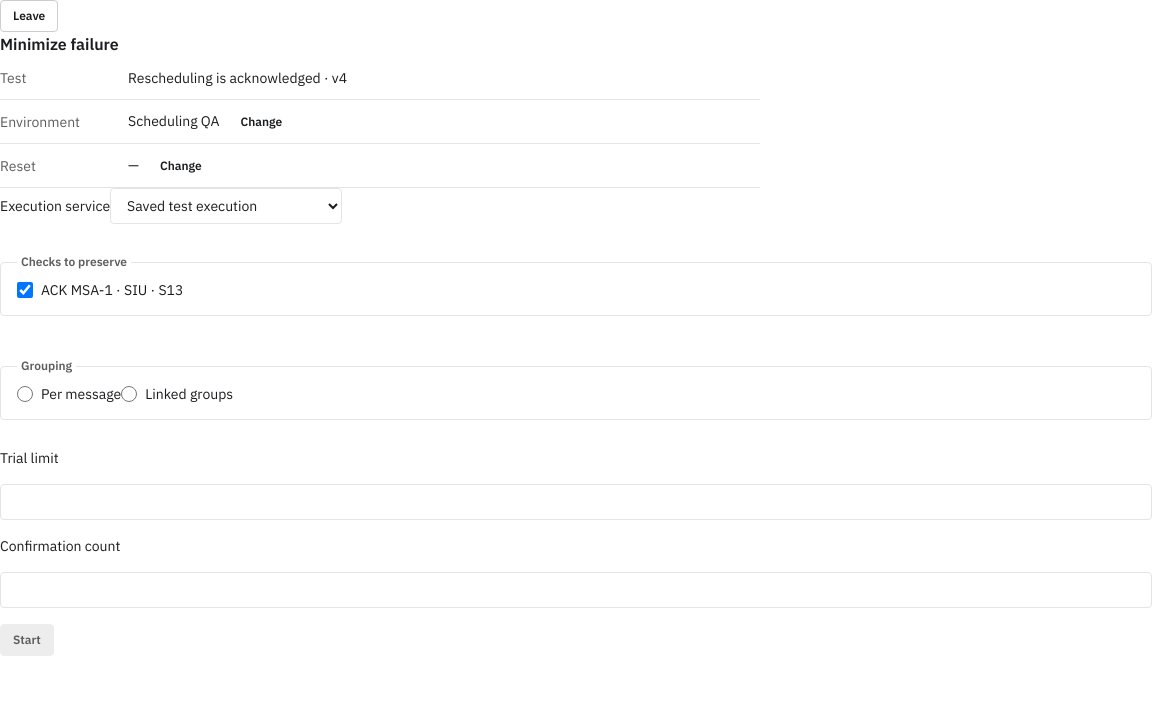
Test case: a connected minimization reviews the saved lifecycle, typed checks and isolation before Start
Select "Approved connected lifecycle" in the dropdown labelled "Execution service" at (226, 206), box x1=110 y1=188 x2=342 y2=224
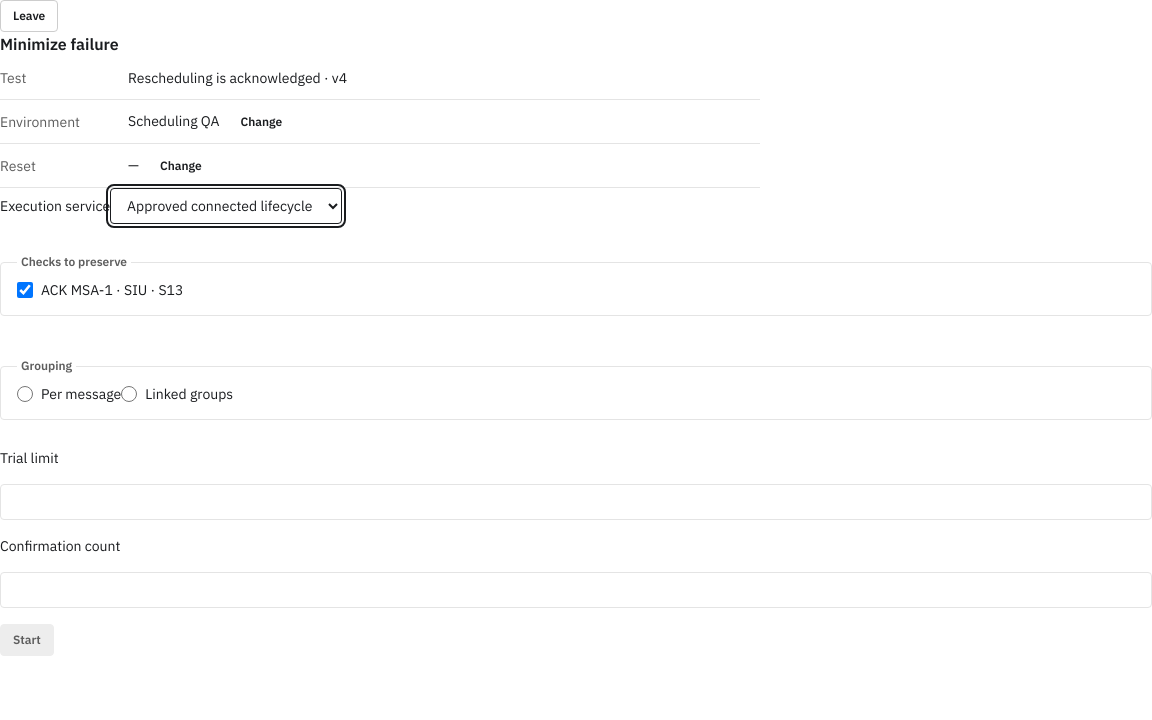
Expected: the checkbox labelled "ACK MSA-1 · SIU · S13" is shown, x1=17 y1=282 x2=33 y2=298
Expected: the button "Start" is disabled, x1=0 y1=624 x2=54 y2=656
Click the radio button labelled "Per message" at (25, 394), box x1=17 y1=386 x2=33 y2=402
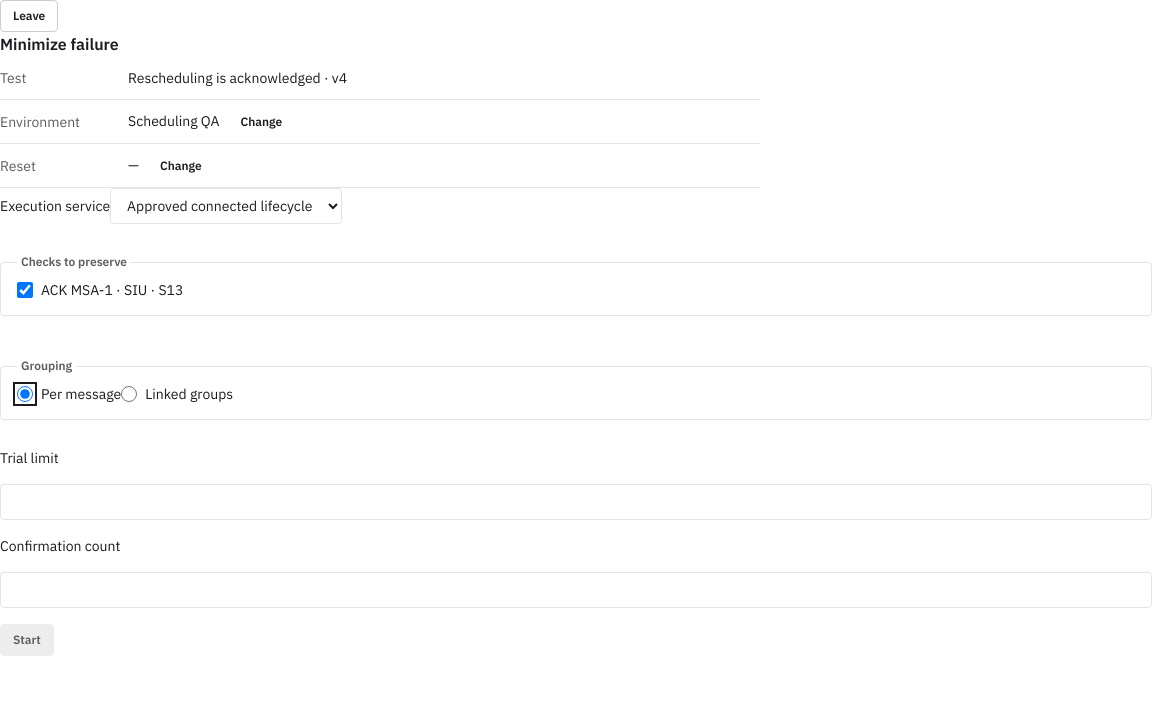
Type "16" into the number field labelled "Trial limit" at (576, 502), box x1=0 y1=484 x2=1151 y2=520
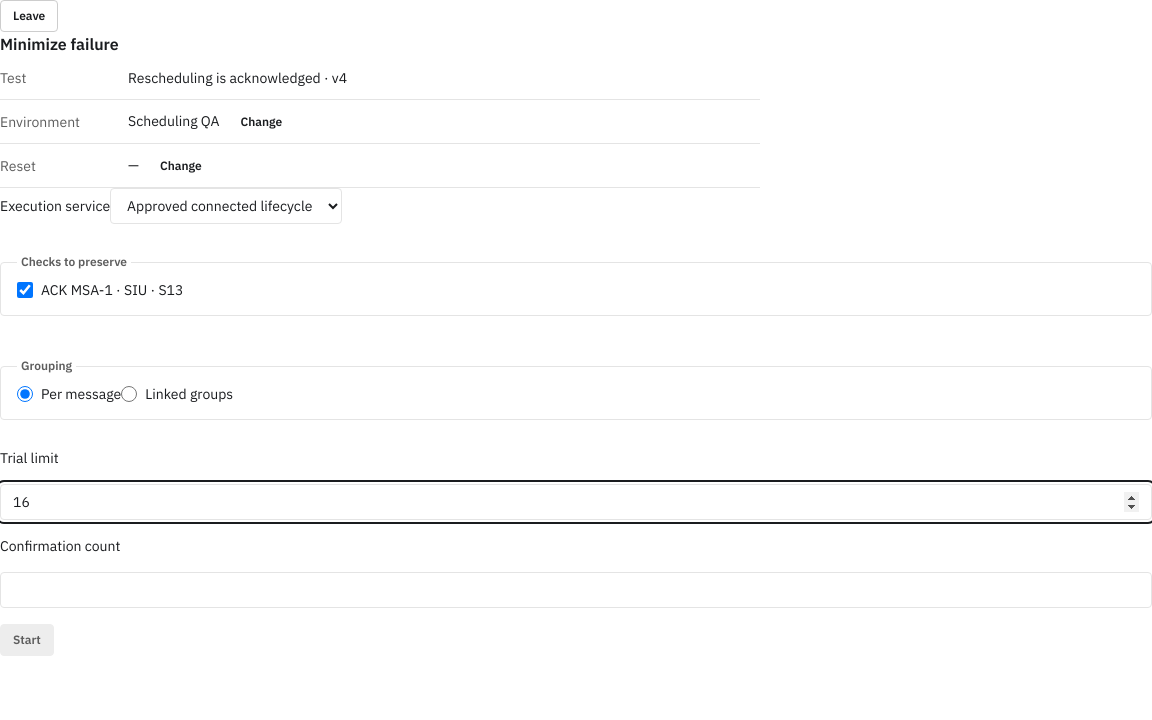
Type "1" into the number field labelled "Confirmation count" at (576, 590), box x1=0 y1=572 x2=1151 y2=608
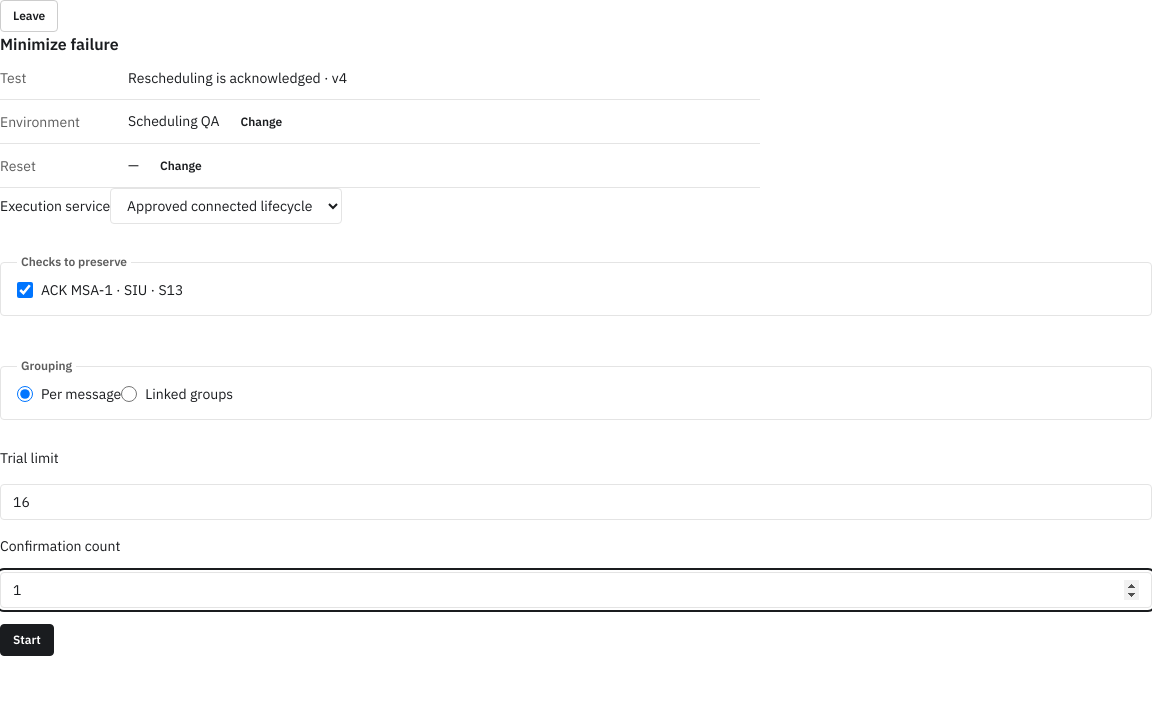
Click the button "Start" at (27, 640), box x1=0 y1=624 x2=54 y2=656
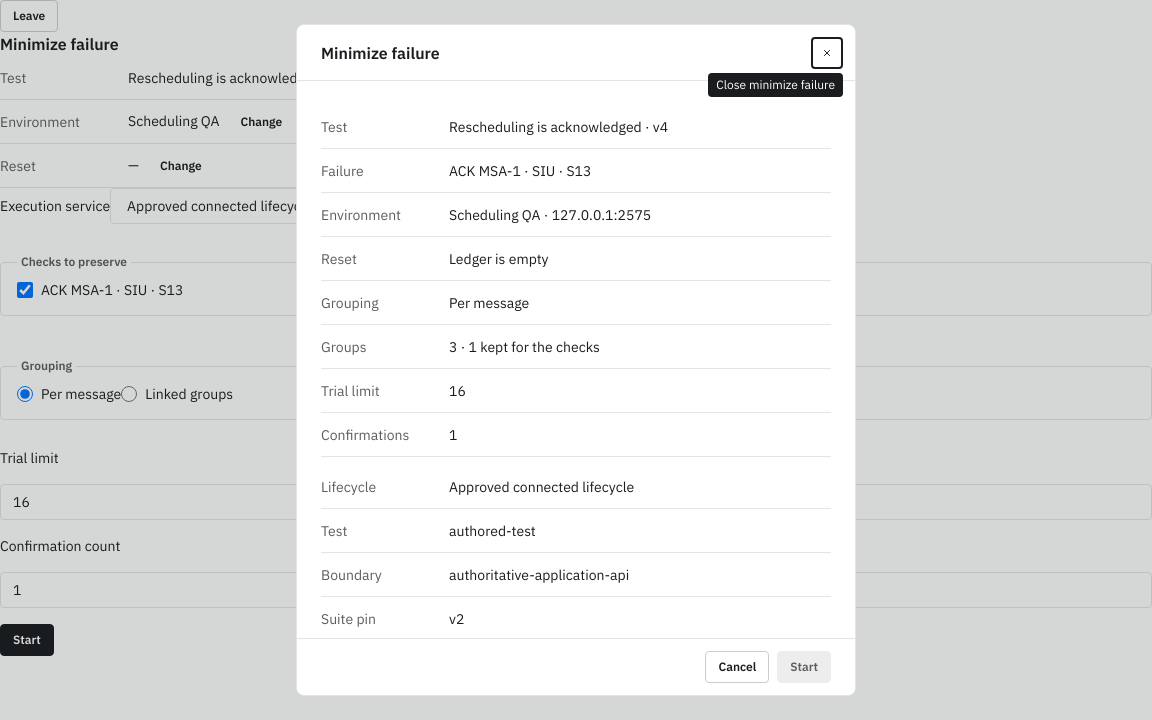
Result: the text "Approved connected lifecycle" is shown at x1=449 y1=465 x2=831 y2=509
